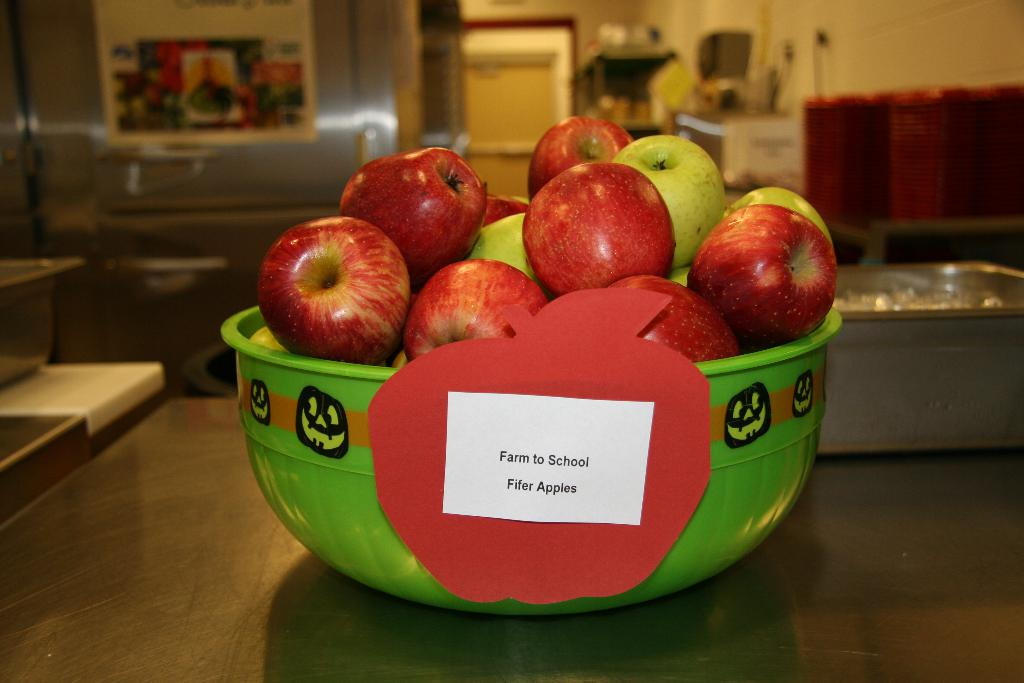Apple: (250, 112, 838, 362), (259, 219, 415, 357), (521, 158, 677, 290)
